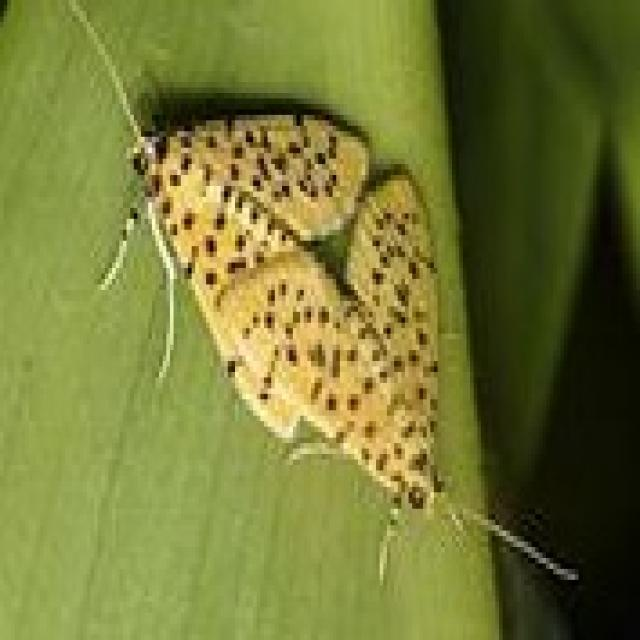peach borer: (95, 86, 464, 540)
